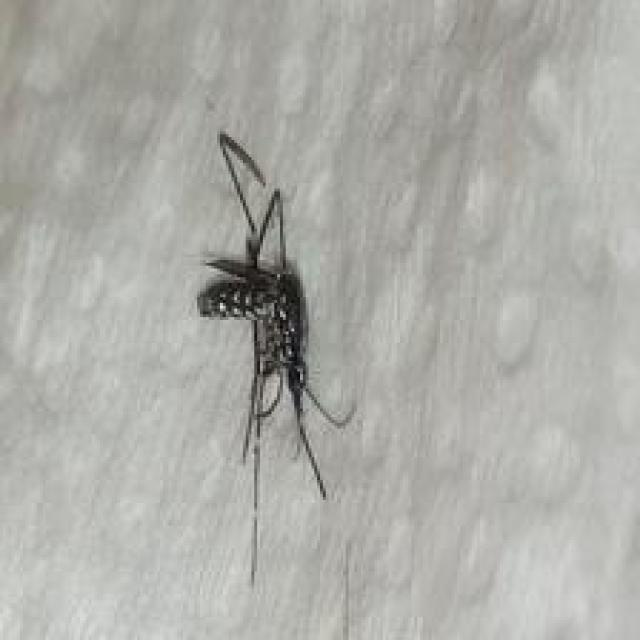Aedes albopictus: (194, 130, 357, 587)
